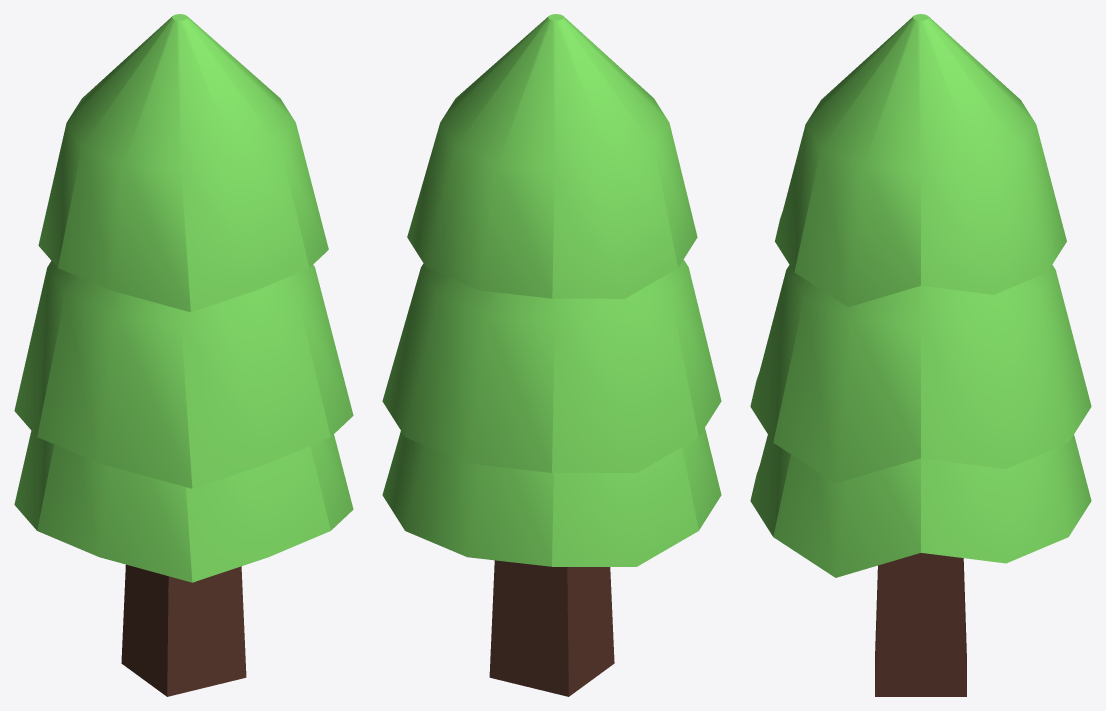
Rendered from tree2.fbx.
The picture shows the model from 3 angles, left to right: view 1: azimuth 30°, elevation 25°; view 2: azimuth 150°, elevation 25°; view 3: azimuth 270°, elevation 25°; orthographic projection.
Parts seen in each view (by area): view 1: tree3; view 2: tree3; view 3: tree3.
Part boxes in pixels (left/top/right/bottom): tree3: left=14, top=14, right=353, bottom=696; tree3: left=382, top=14, right=721, bottom=696; tree3: left=750, top=14, right=1091, bottom=696.
Size of the model in its own units: 430 by 914 by 430.
